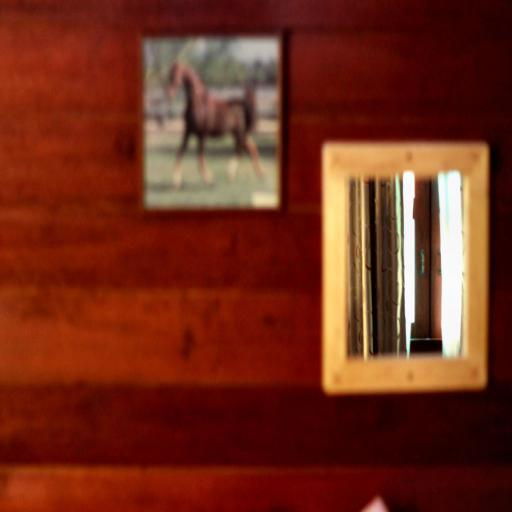horse: (165, 61, 265, 189)
